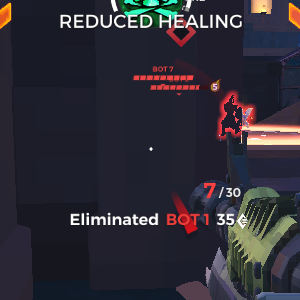model: (216, 90, 235, 139), (233, 106, 258, 132)
